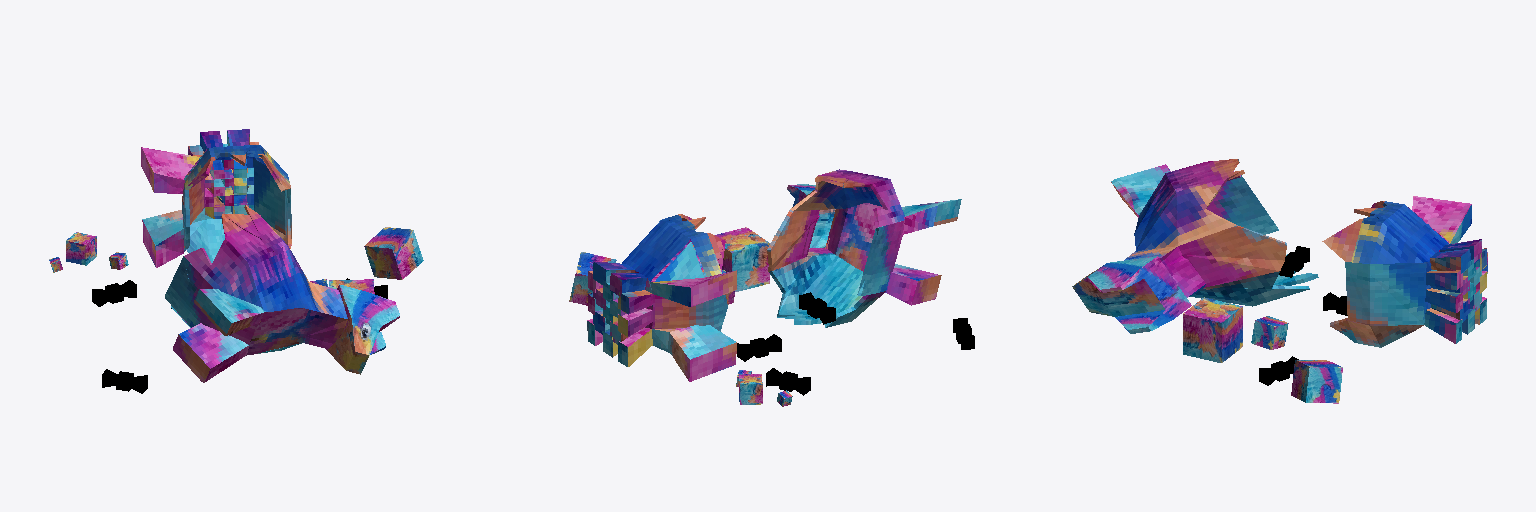
3 renders of one model, left to right at view 1: azimuth 30°, elevation 25°; view 2: azimuth 150°, elevation 25°; view 3: azimuth 270°, elevation 25°, orthographic.
Visible parts, largest first — view 1: top_bodty, back, Face_head, broken_pieces broken4, broken5 broken_pieces, candy candy3, candy candy; view 2: top_bodty, back, broken_pieces broken3, Face_head, broken_pieces broken4, candy candy2, candy candy, broken5 broken_pieces, candy candy4, candy candy3; view 3: back, top_bodty, Face_head, broken_pieces broken3, broken_pieces broken4, broken_pieces broken2, candy5 candy, candy candy4.
Part boxes in pixels (x1,y1,x2,y2): top_bodty: (165,205,347,382); back: (141,129,291,267); Face_head: (326,284,399,374); broken_pieces broken4: (364,227,423,279); broken5 broken_pieces: (66,232,96,265); candy candy3: (102,369,147,393); candy candy: (92,280,136,306); top_bodty: (767,169,961,327); back: (587,214,736,381); broken_pieces broken3: (715,227,769,291); Face_head: (774,184,835,248); broken_pieces broken4: (569,252,616,305); candy candy2: (737,334,781,361); candy candy: (766,368,810,395); broken5 broken_pieces: (739,374,762,404); candy candy4: (799,292,835,324); candy candy3: (953,318,974,349); back: (1322,196,1486,347); top_bodty: (1111,159,1318,306); Face_head: (1072,256,1191,333); broken_pieces broken3: (1183,297,1242,362); broken_pieces broken4: (1291,360,1342,403); broken_pieces broken2: (1251,316,1288,349); candy5 candy: (1259,356,1298,385); candy candy4: (1279,246,1309,277).
Bounding box in the file's own units: 29.63 × 11.28 × 29.54.
3 materials, 2 textured.